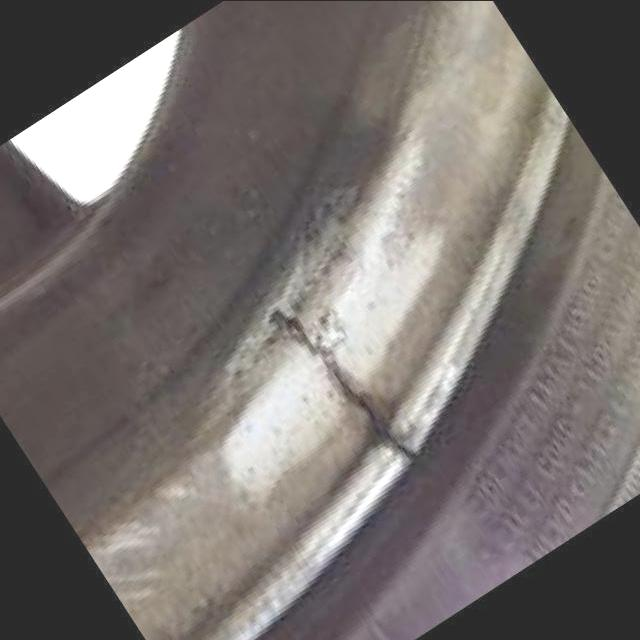defect: (268, 300, 423, 474)
